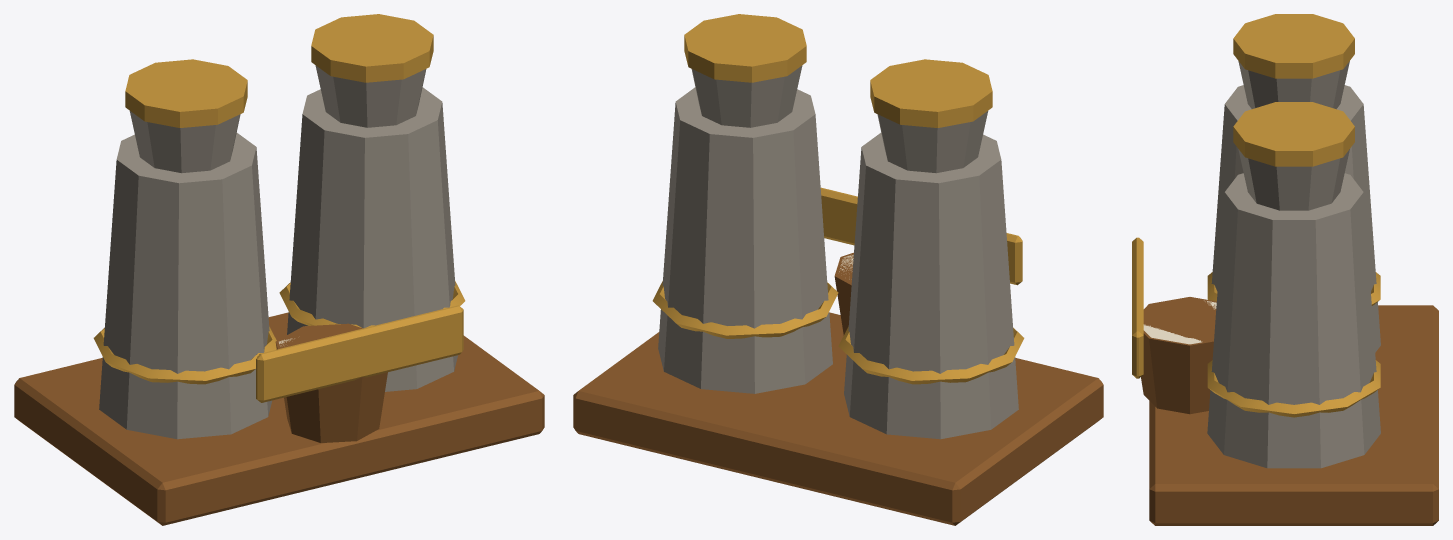
Rendered from PR_Station_Sut_T2.fbx.
3 renders of one model, left to right at view 1: azimuth 30°, elevation 25°; view 2: azimuth 150°, elevation 25°; view 3: azimuth 270°, elevation 25°, orthographic. The views are drawn at different scales.
Visible parts, largest first — view 1: PR_Station_Sut_T2; view 2: PR_Station_Sut_T2; view 3: PR_Station_Sut_T2.
Boxes of the visible parts, left/top/right/bottom form: PR_Station_Sut_T2: left=14, top=14, right=544, bottom=525; PR_Station_Sut_T2: left=573, top=14, right=1103, bottom=525; PR_Station_Sut_T2: left=1132, top=14, right=1438, bottom=525.
Size of the model in its own units: 0.75 by 0.675 by 0.53.
1 material, 1 textured.
